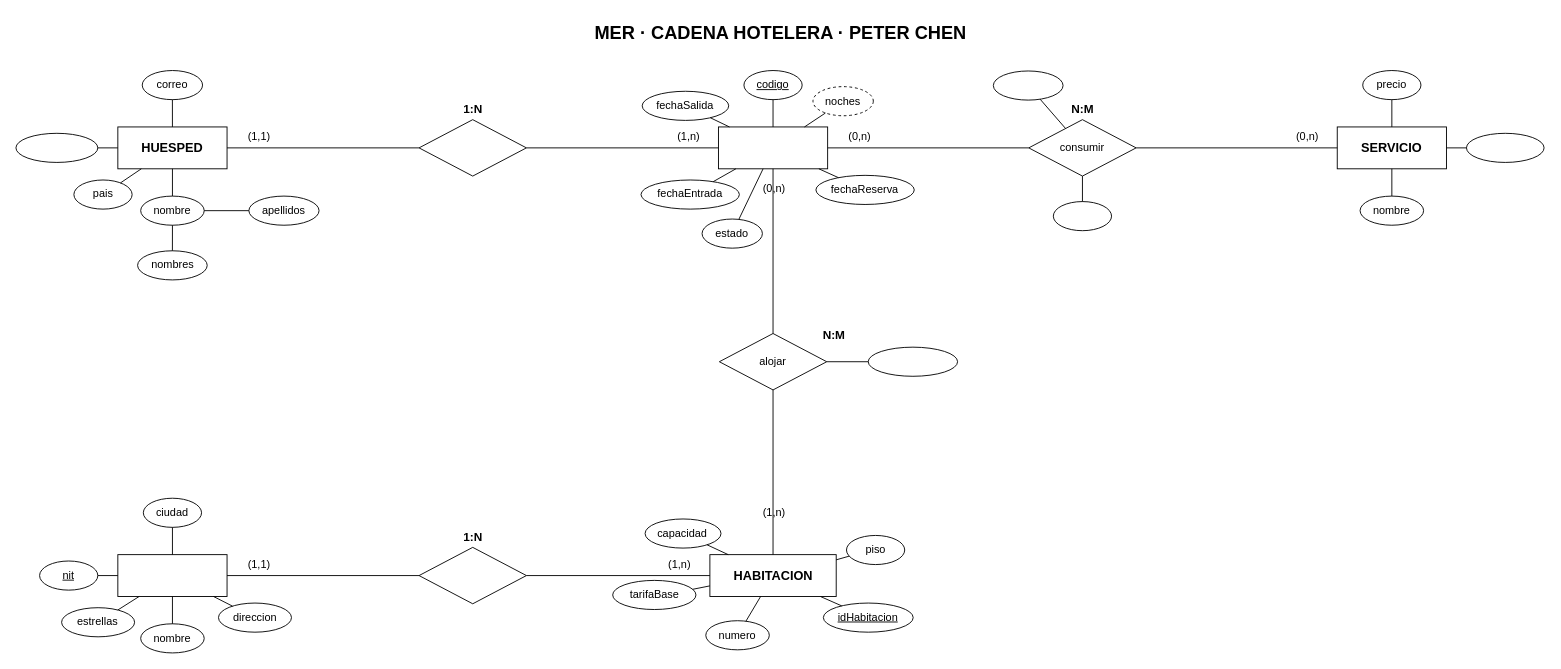
Image size: 1561x669. Some labels were removed from this diagram. Here are the shapes that lost their labels. From the top down, the box of each, then its label:
(992, 70, 1063, 100): cantidad
(15, 132, 98, 162): documento
(418, 119, 526, 176): hacer
(718, 126, 828, 169): RESERVA
(1466, 132, 1544, 162): idServicio
(1052, 201, 1112, 231): fecha
(867, 346, 958, 376): tarifaNoche
(117, 554, 227, 597): HOTEL
(418, 546, 526, 604): ubicar
